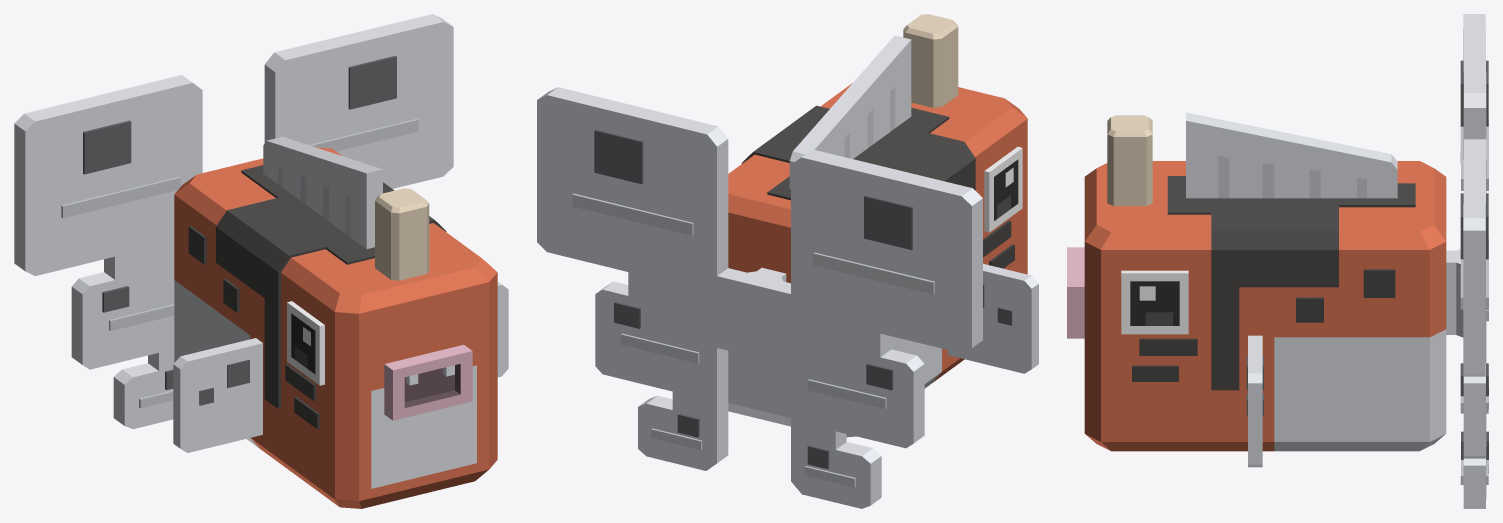
3 views of the same model, side by side, from view 1: azimuth 30°, elevation 25°; view 2: azimuth 150°, elevation 25°; view 3: azimuth 270°, elevation 25° (orthographic). The views are drawn at different scales.
Parts seen in each view (by area): view 1: 0119_seaking; view 2: 0119_seaking; view 3: 0119_seaking.
Boxes of the visible parts, x1,y1,x2,y2 form: 0119_seaking: (14,14,508,508); 0119_seaking: (537,14,1038,508); 0119_seaking: (1067,14,1488,508).
Bounding box in the file's own units: 2.61 × 1.93 × 2.18.
Materials: 1 (1 with a texture image).
